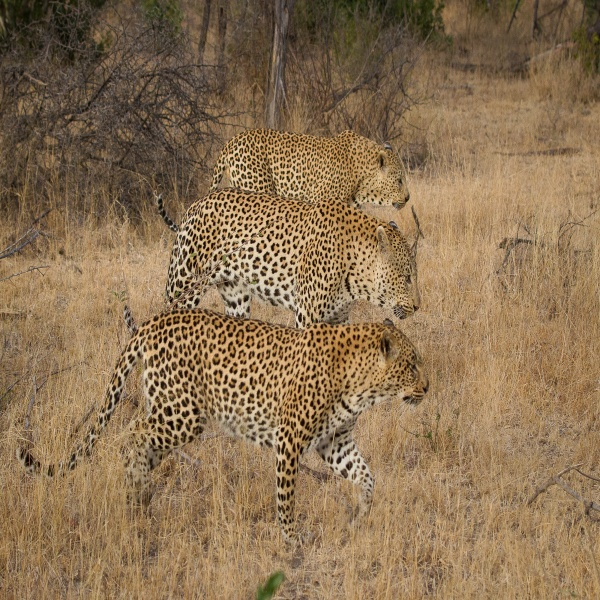Leopard: (22, 302, 434, 545), (122, 188, 426, 332), (152, 124, 416, 243)
